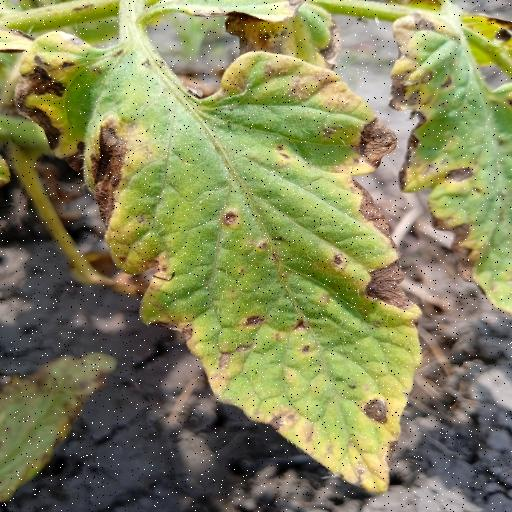Tomato_Brown_Spots: (10, 28, 425, 496), (381, 0, 512, 318)
